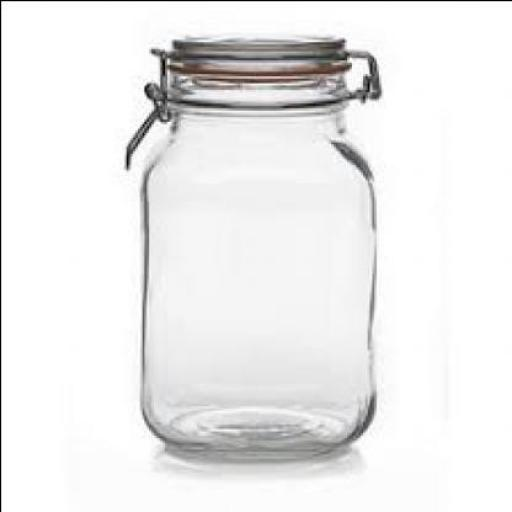glass: (139, 34, 380, 453)
metal: (126, 41, 168, 166)
